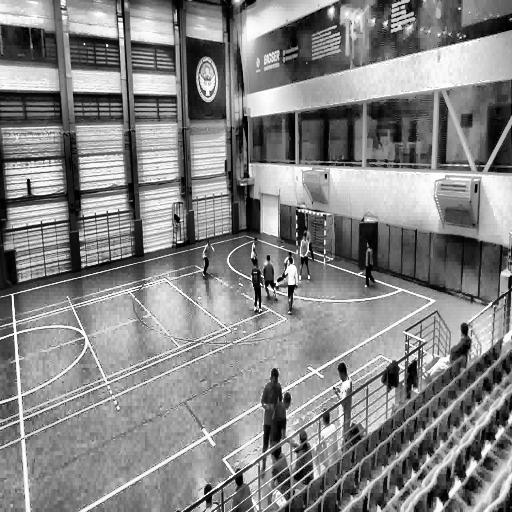player: (276, 252, 298, 292), (284, 257, 298, 316), (250, 259, 264, 314), (262, 255, 277, 302), (298, 230, 312, 280), (202, 240, 216, 278), (303, 225, 316, 264), (364, 240, 374, 290), (249, 235, 262, 272)
